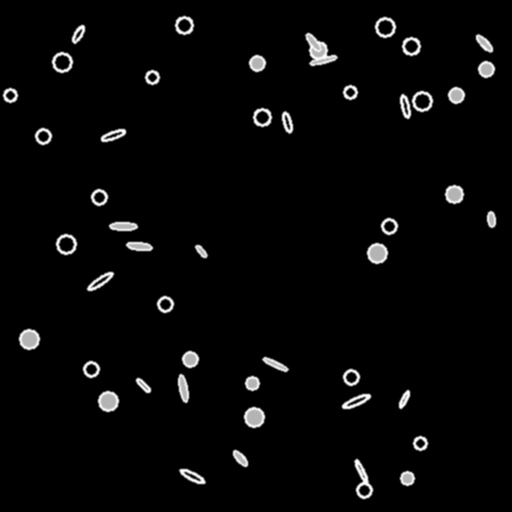pseudomonas: (86, 270, 114, 292), (342, 392, 370, 410), (179, 467, 205, 485), (262, 356, 288, 372), (353, 459, 369, 483), (100, 128, 126, 142), (304, 32, 322, 52), (475, 33, 493, 53), (177, 374, 189, 402), (309, 54, 337, 66), (70, 24, 86, 44), (232, 449, 248, 467), (399, 94, 411, 118), (281, 111, 293, 133), (135, 377, 151, 393), (398, 390, 410, 408), (194, 244, 208, 258), (127, 242, 151, 250), (109, 223, 137, 229), (487, 211, 495, 227)
synechocystis: (20, 330, 38, 348), (413, 92, 431, 110), (53, 53, 71, 71), (245, 408, 263, 426), (99, 392, 117, 410), (57, 235, 75, 253), (376, 18, 394, 36), (368, 244, 386, 262), (310, 42, 326, 58), (446, 186, 462, 202), (176, 17, 192, 33), (254, 109, 270, 125), (403, 38, 419, 54), (36, 129, 50, 143), (84, 362, 98, 376), (479, 62, 493, 76), (382, 219, 396, 233), (92, 190, 106, 204), (449, 88, 463, 102), (183, 352, 197, 366), (250, 56, 264, 70), (344, 370, 358, 384), (158, 297, 172, 311), (357, 483, 371, 497), (344, 86, 356, 98), (246, 377, 258, 389), (414, 437, 426, 449), (4, 89, 16, 101), (146, 71, 158, 83), (401, 472, 413, 484)
